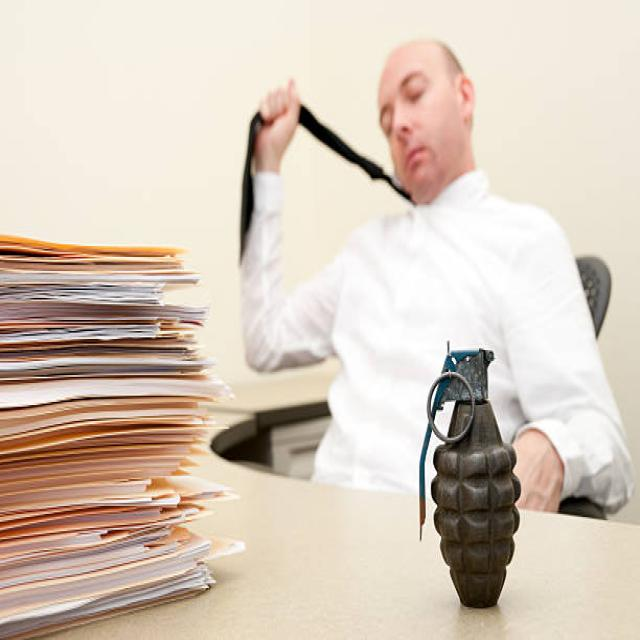grenade: (408, 343, 523, 611)
